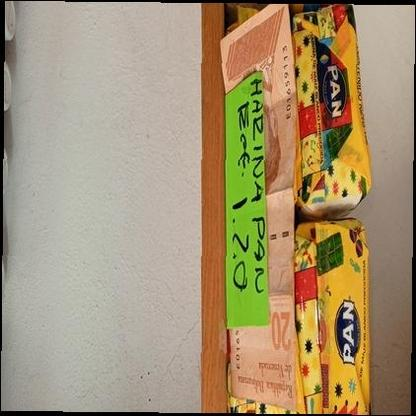twenty-front-vef: (220, 4, 296, 410)
